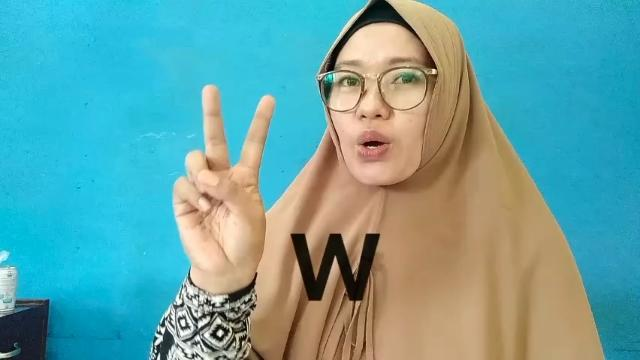V: (166, 82, 276, 276)
